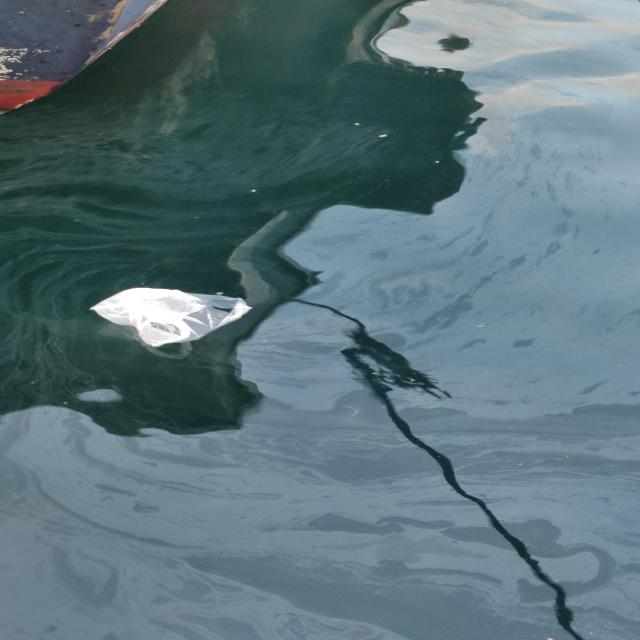Plastic bag: (86, 287, 256, 349)
